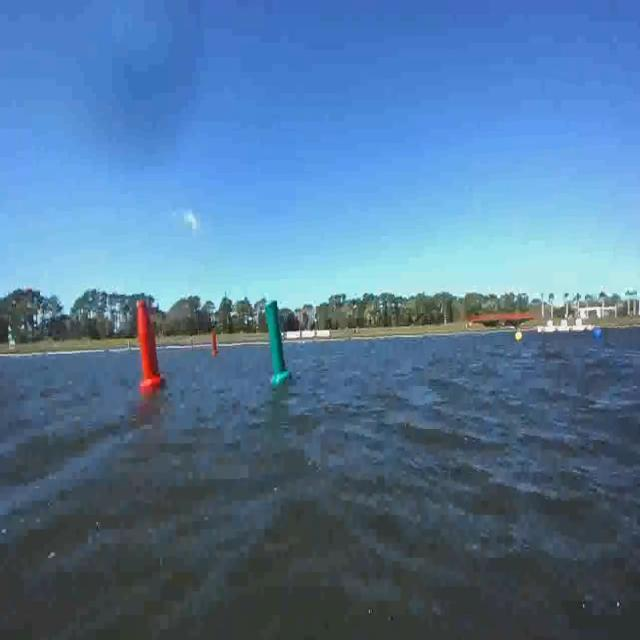blue-buoy: (590, 328, 602, 346)
green-column-buoy: (264, 298, 292, 384)
red-column-buoy: (135, 300, 166, 393), (212, 332, 220, 357)
yellow-buoy: (516, 331, 524, 344)
